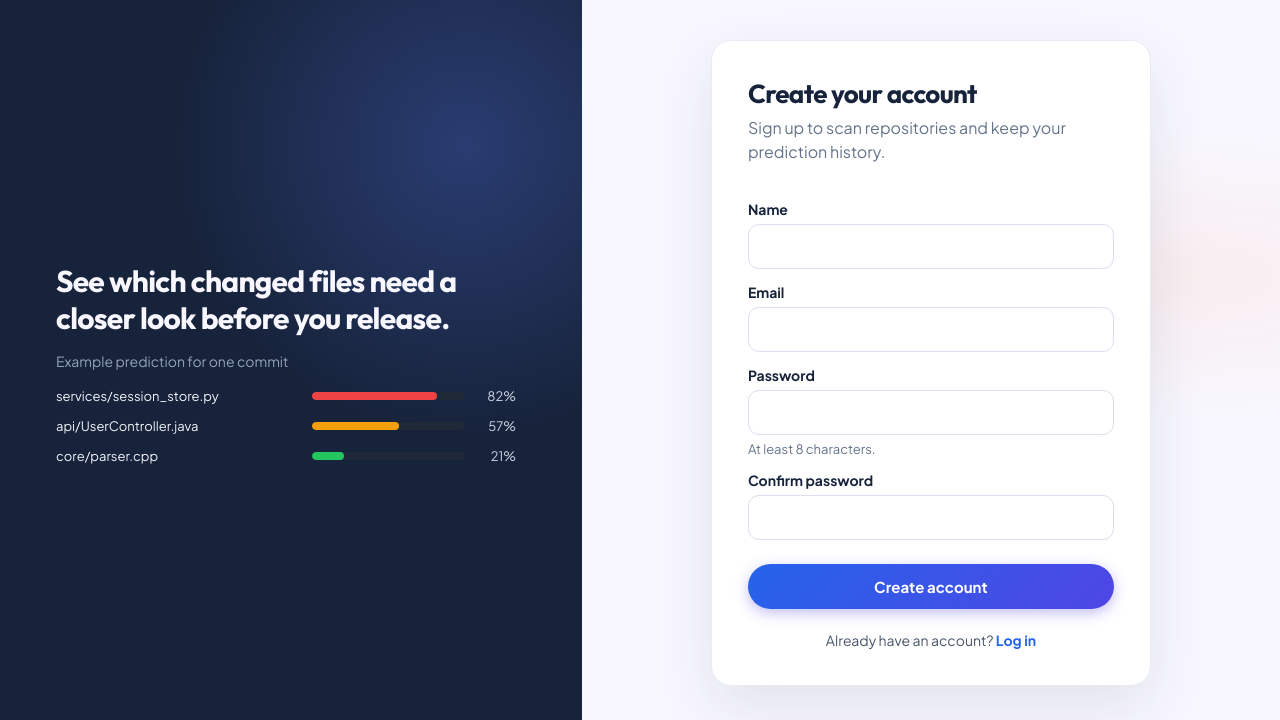
Test: SignupPage › rejects mismatched password confirmation
The width and height of the screenshot is (1280, 720).
Type "Test User" into the field labelled "Name" at (931,246), box [748,224,1114,269]
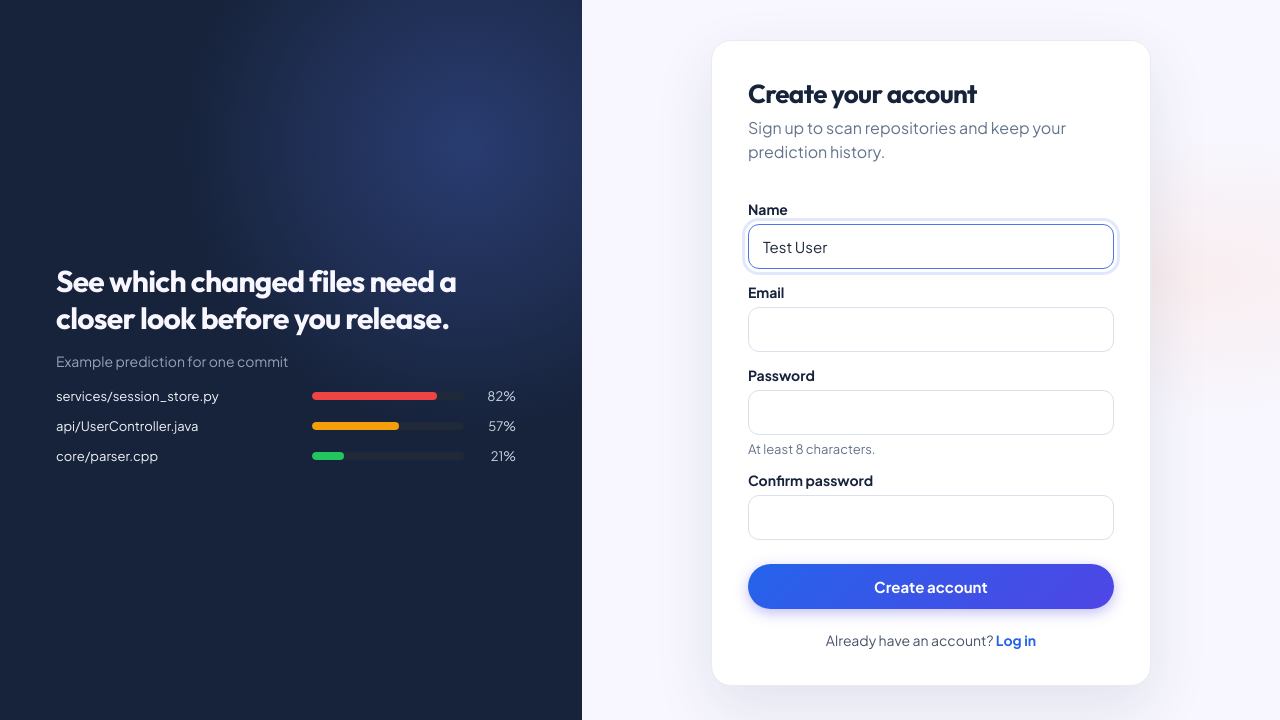
Type "mismatch@example.com" into the field labelled "Email" at (931,330), box [748,307,1114,352]
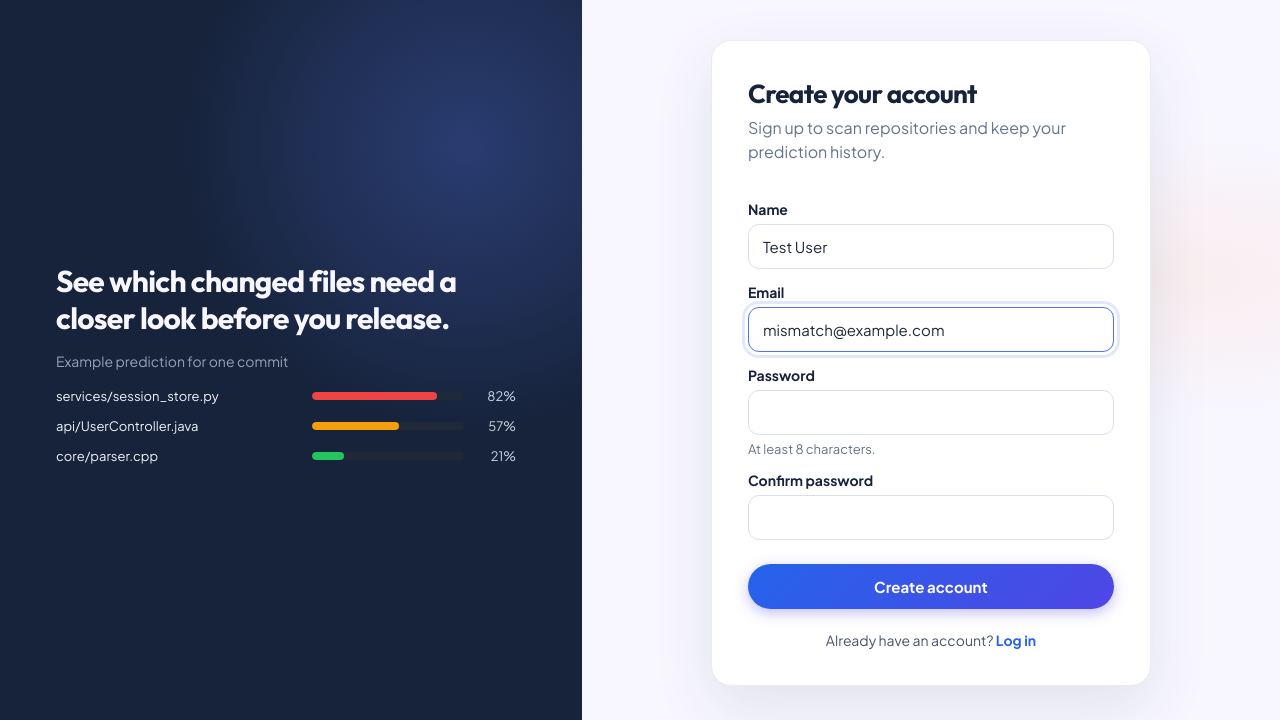
Type "Test-pass-123" into the password field labelled "Password" at (931,412), box [748,390,1114,435]
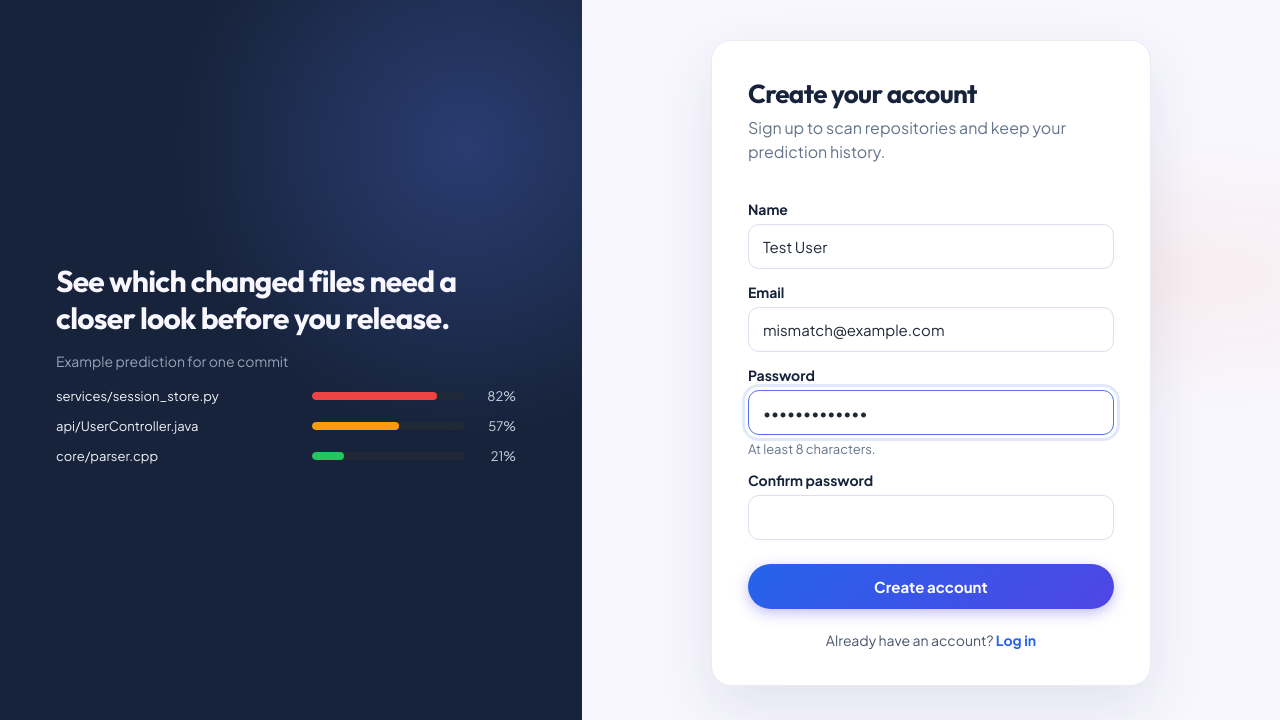
Type "Other-pass-123" into the password field labelled "Confirm password" at (931,518), box [748,495,1114,540]
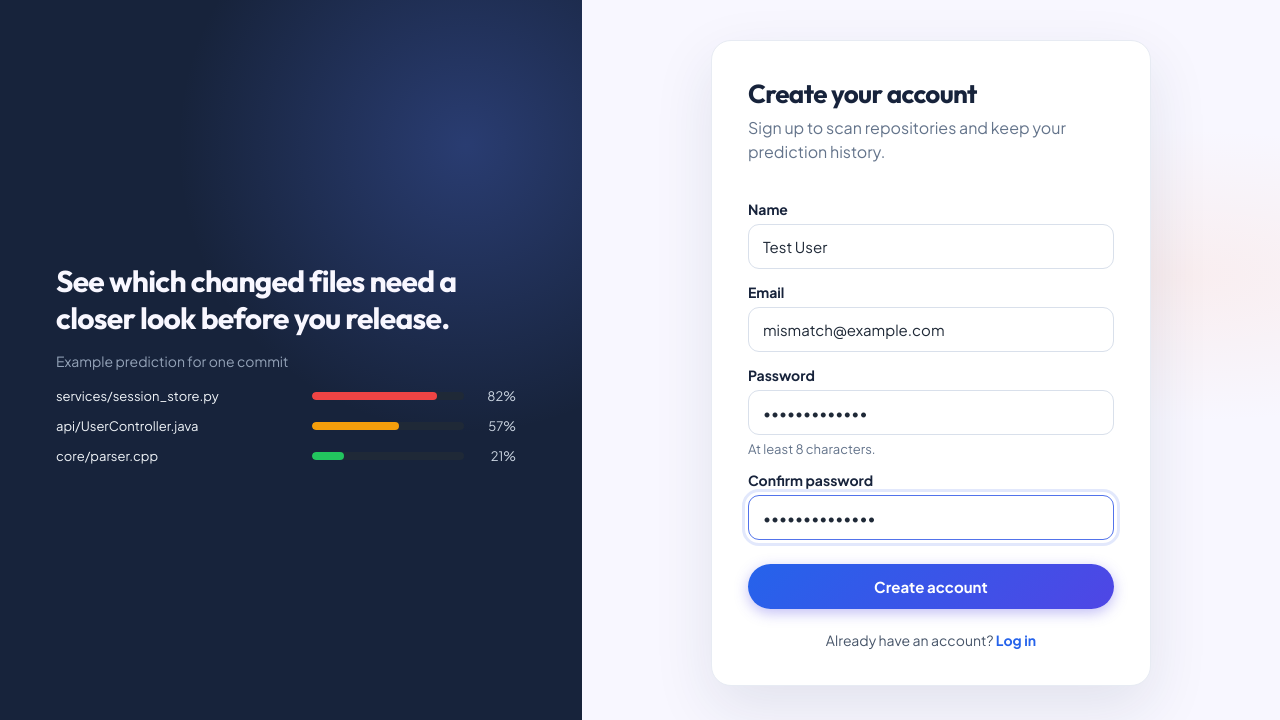
Click the button "Create account" at (931,586), box [748,564,1114,609]
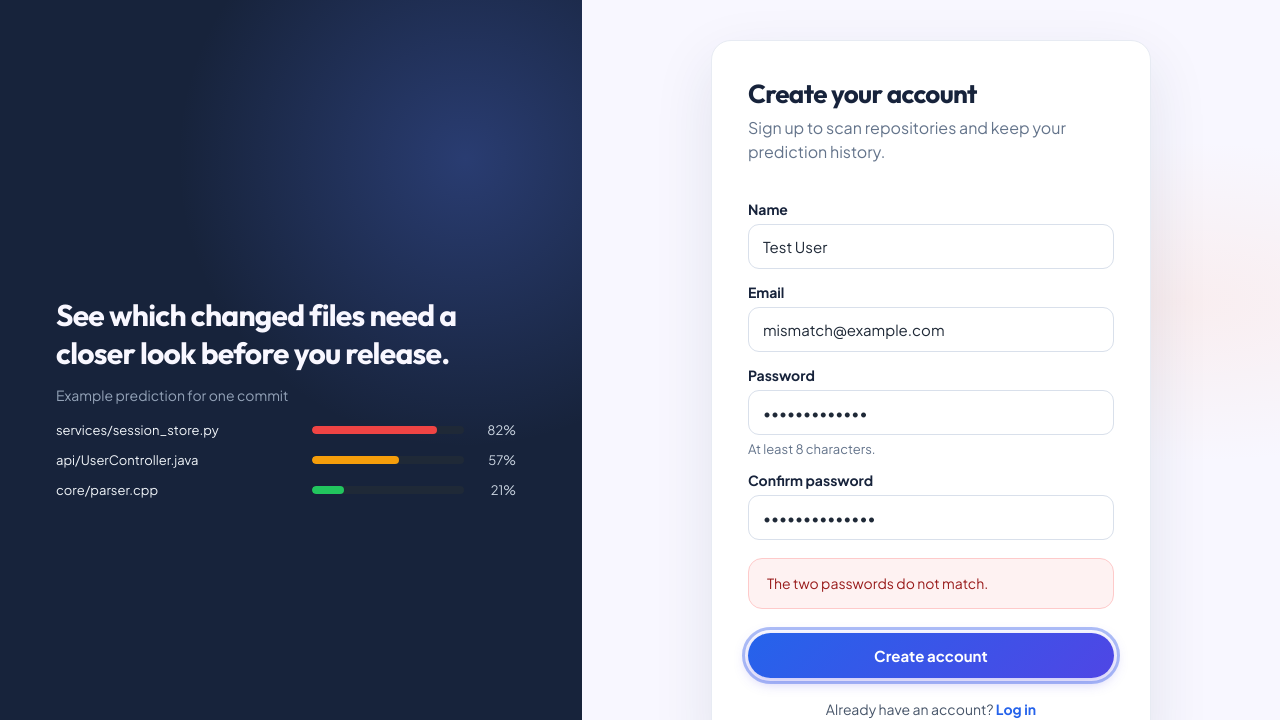
Check: the message reads "The two passwords do not match.", box [767,574,988,592]
